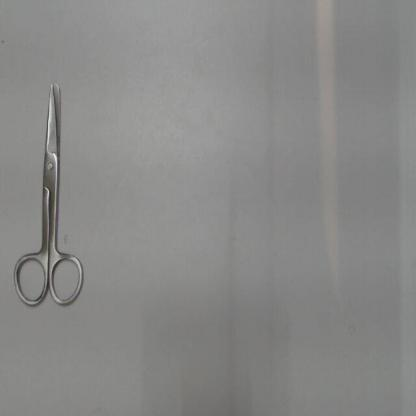Dressing Scissors: (7, 68, 91, 316)
